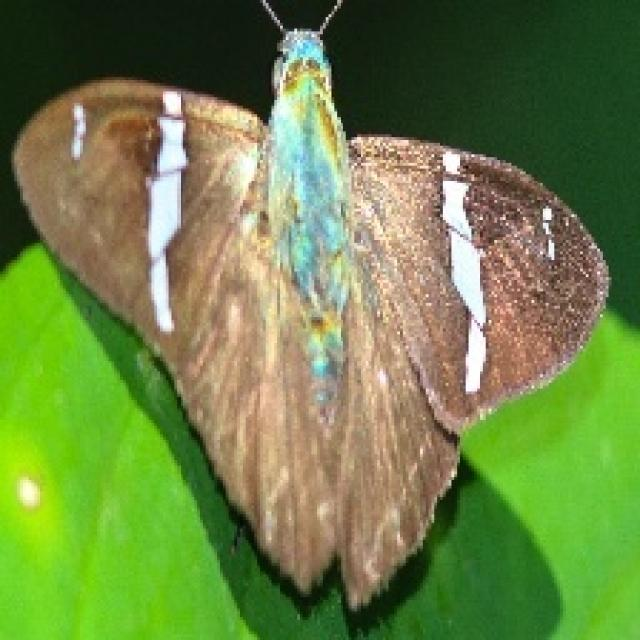butterfly: (8, 0, 611, 611)
